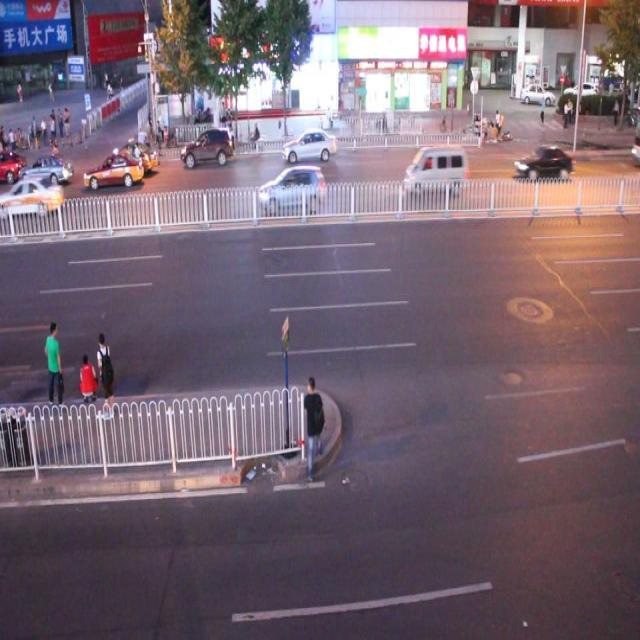car: (259, 164, 323, 212), (1, 175, 62, 217), (512, 143, 570, 182), (181, 128, 234, 168), (83, 154, 144, 187), (19, 153, 73, 188), (282, 128, 336, 162), (112, 140, 157, 173), (1, 148, 27, 184)
truck: (403, 144, 467, 195)
